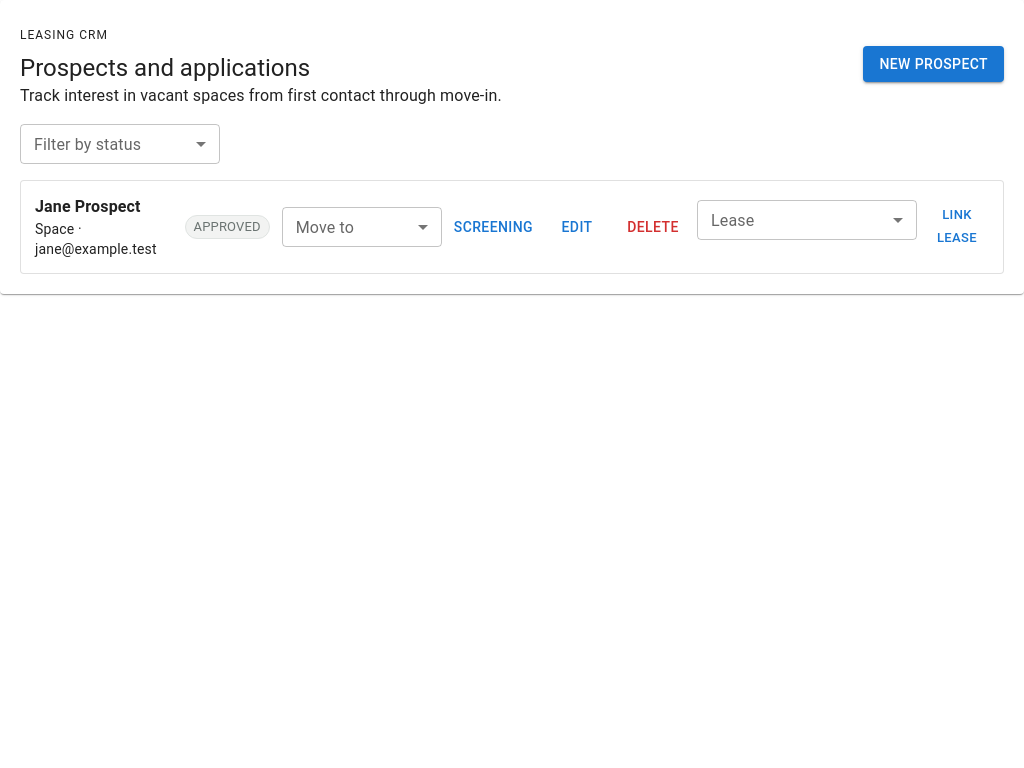
Test: validates an edit before saving it
This screenshot has width=1024, height=768.
Click the button "Edit" at (577, 227), box [545,209,609,245]
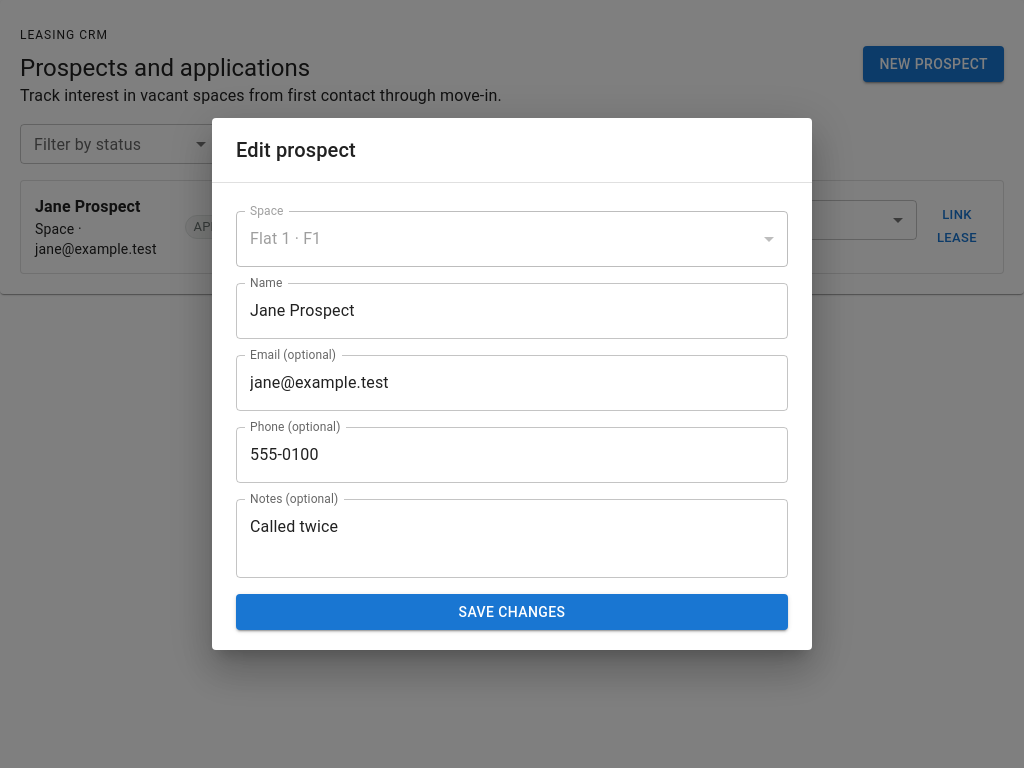
Clear the field labelled "Name" at (512, 311), box [236,283,788,339]
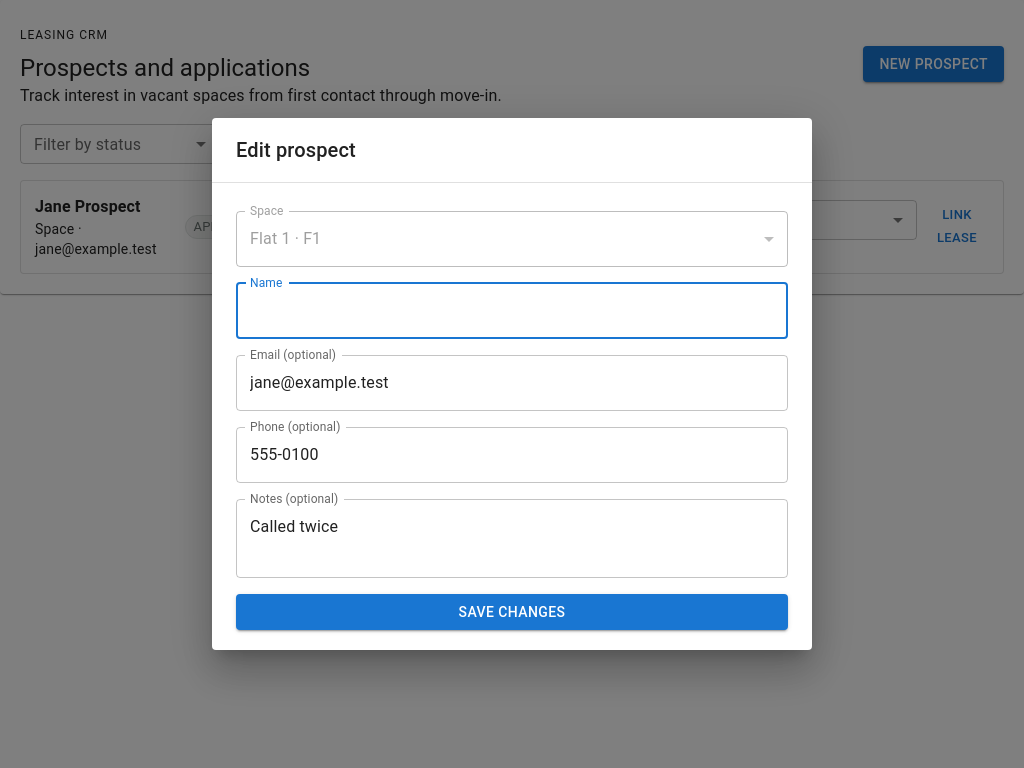
Clear the field labelled "Email (optional)" at (512, 383), box [236,355,788,411]
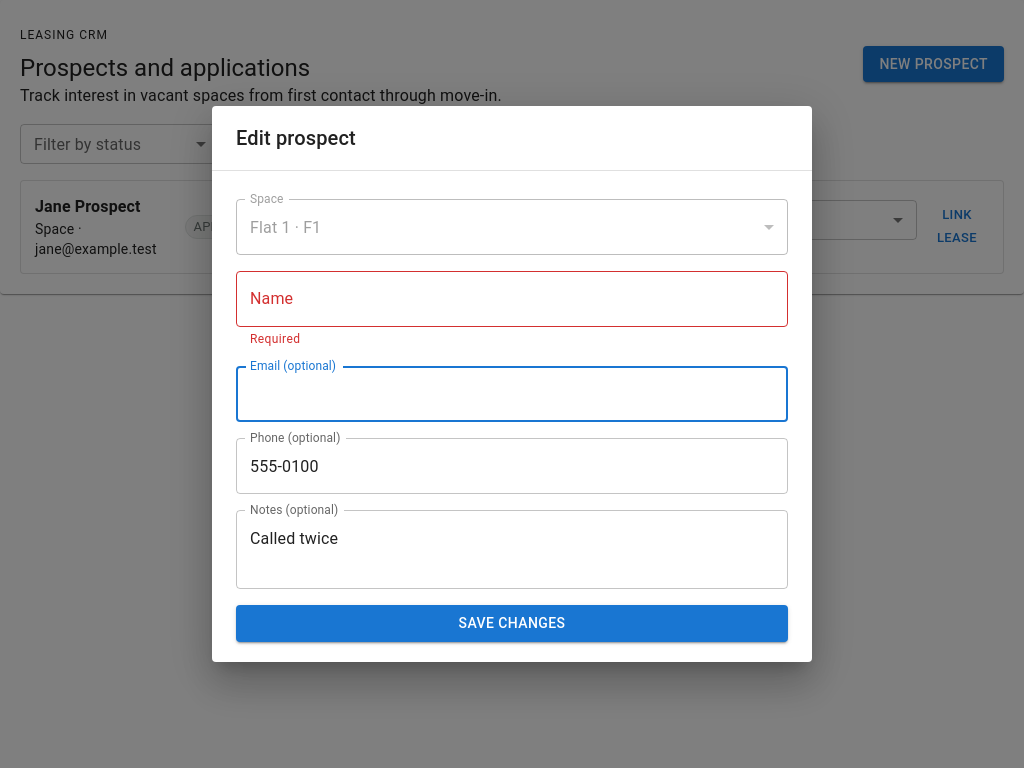
Type "nope" into the field labelled "Email (optional)" at (512, 394), box [236,366,788,422]
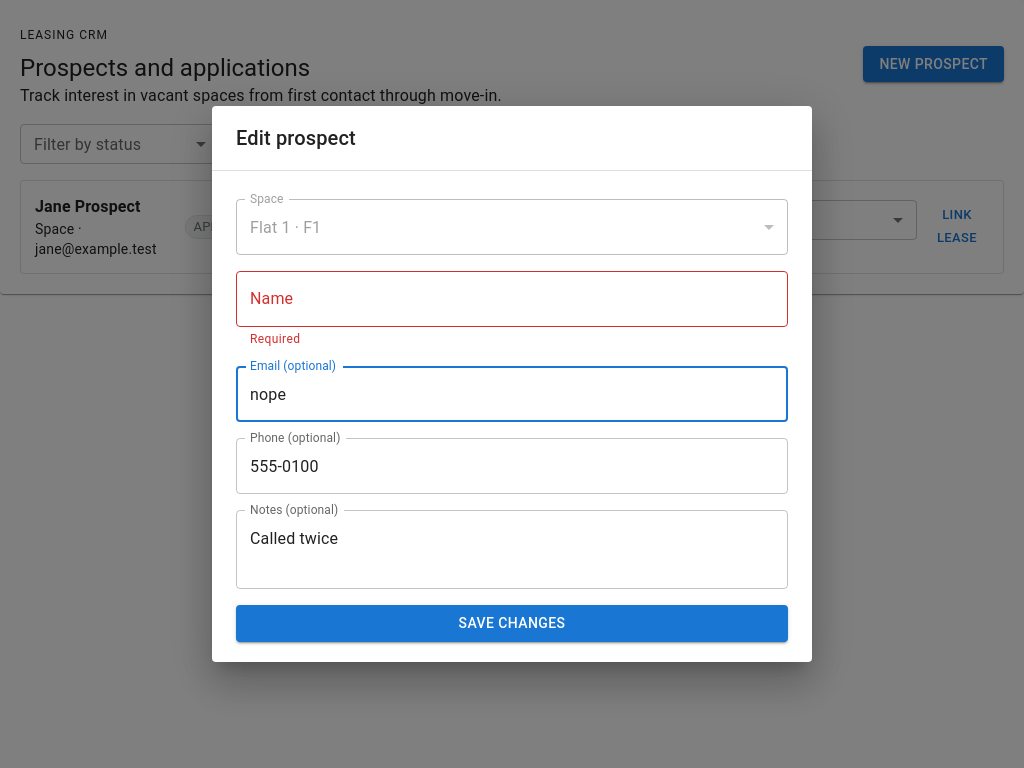
Click the button "Save changes" at (512, 623), box [236,605,788,642]
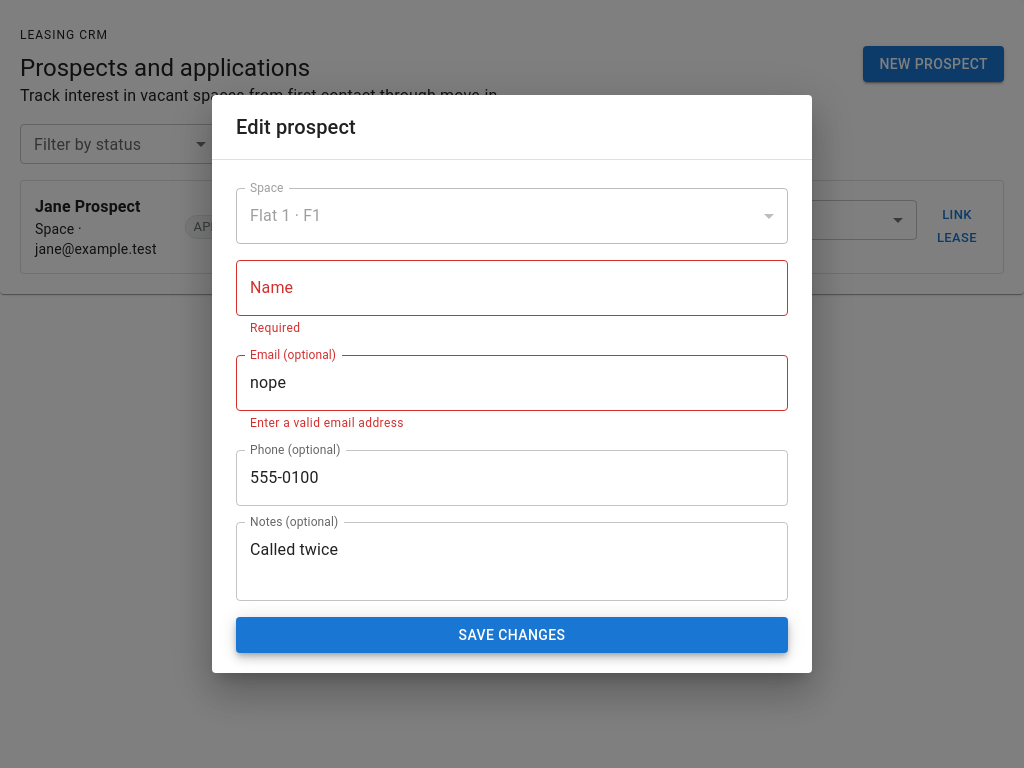
Check: the text "Required" is shown, box [250,321,300,335]
Check: the text "Enter a valid email address" is shown, box [250,416,404,430]
